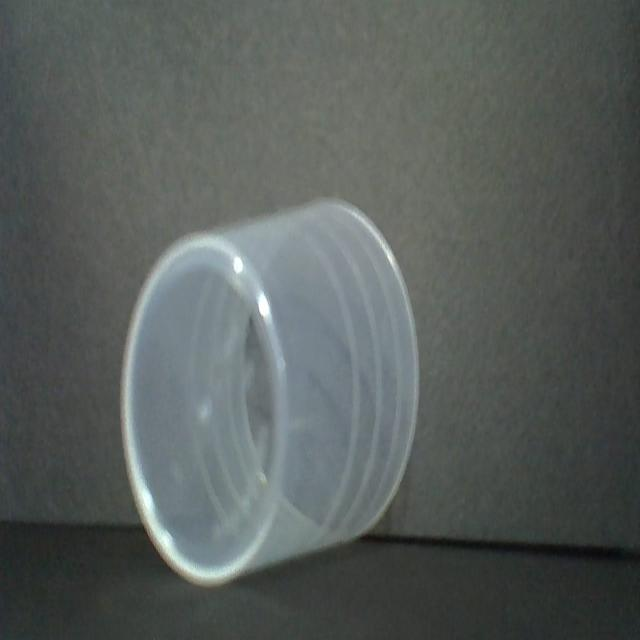cup: (114, 198, 428, 601)
